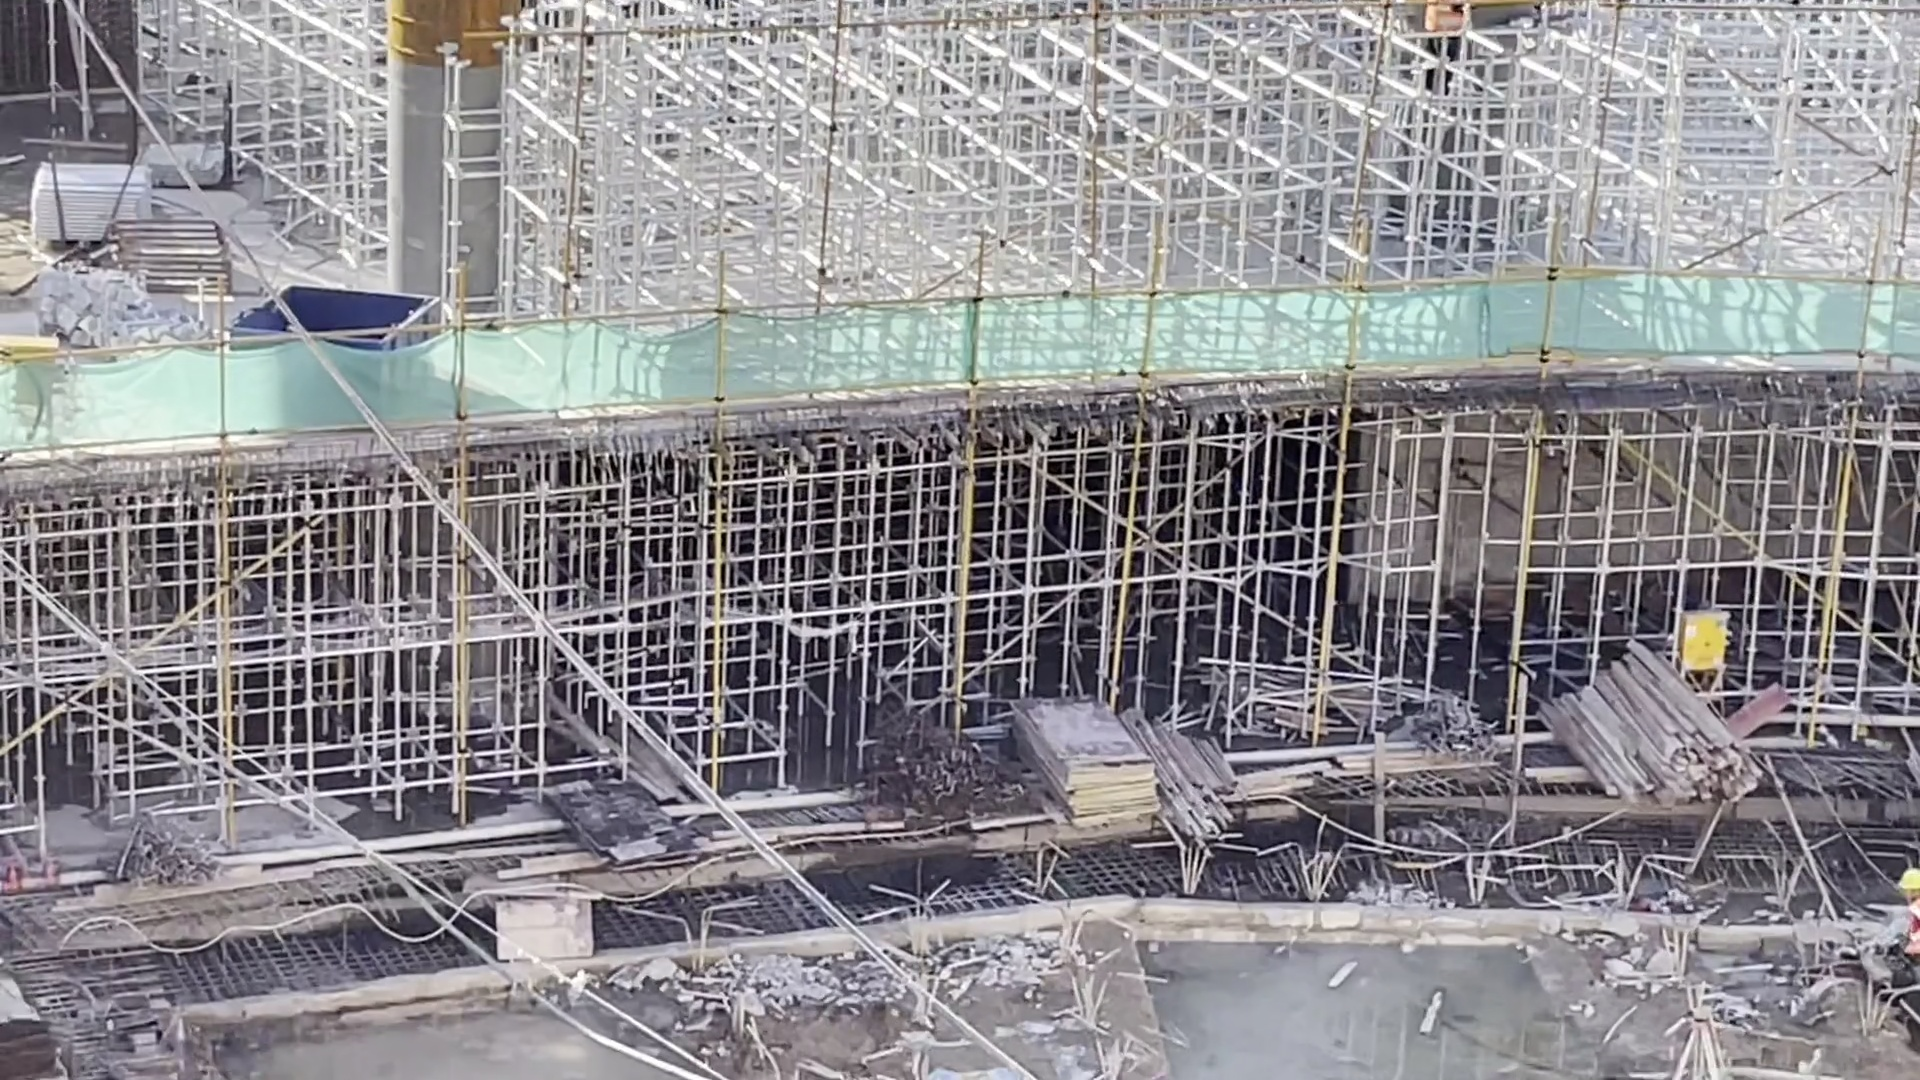board: (1004, 693, 1155, 833)
ebox: (1677, 604, 1735, 692)
helmet: (1901, 868, 1920, 889)
hopper: (232, 284, 438, 341)
person: (1424, 1, 1469, 78), (1894, 863, 1920, 989)
vest: (1428, 1, 1468, 41), (1904, 905, 1920, 960)
wood: (1536, 642, 1735, 821)
